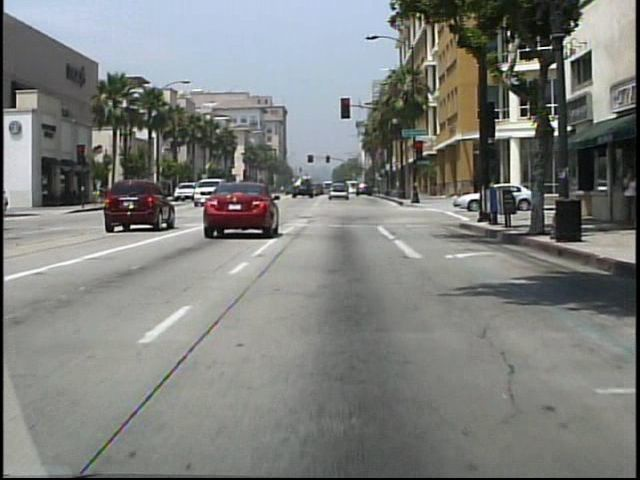person: (617, 165, 636, 228)
